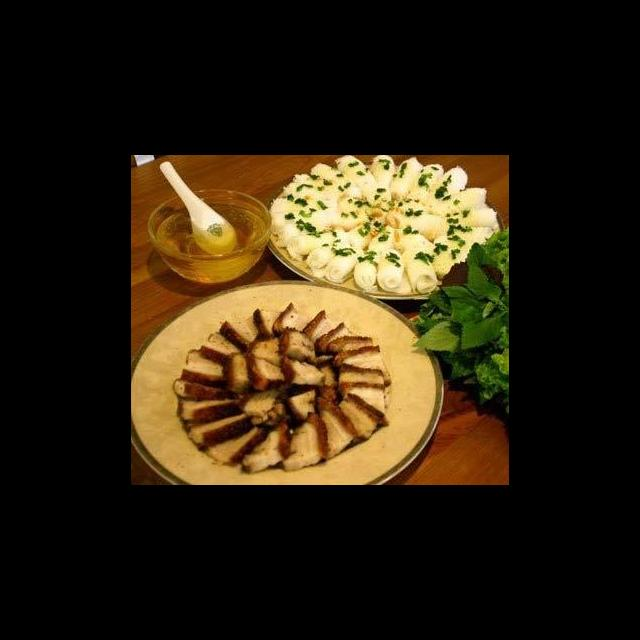banh hoi: (326, 186, 441, 252), (283, 160, 362, 215), (431, 225, 496, 282), (283, 223, 351, 265), (333, 156, 397, 195), (421, 164, 472, 211), (373, 245, 417, 298), (426, 183, 490, 218), (305, 239, 354, 281), (273, 215, 330, 251), (400, 246, 440, 297), (322, 242, 366, 287), (404, 161, 447, 206), (389, 156, 426, 208), (268, 196, 325, 229), (441, 205, 502, 235), (352, 246, 383, 294)
banh hoi heo quay: (146, 178, 490, 470)
thit heo quay: (171, 299, 395, 474), (220, 334, 323, 436), (275, 326, 329, 390)
